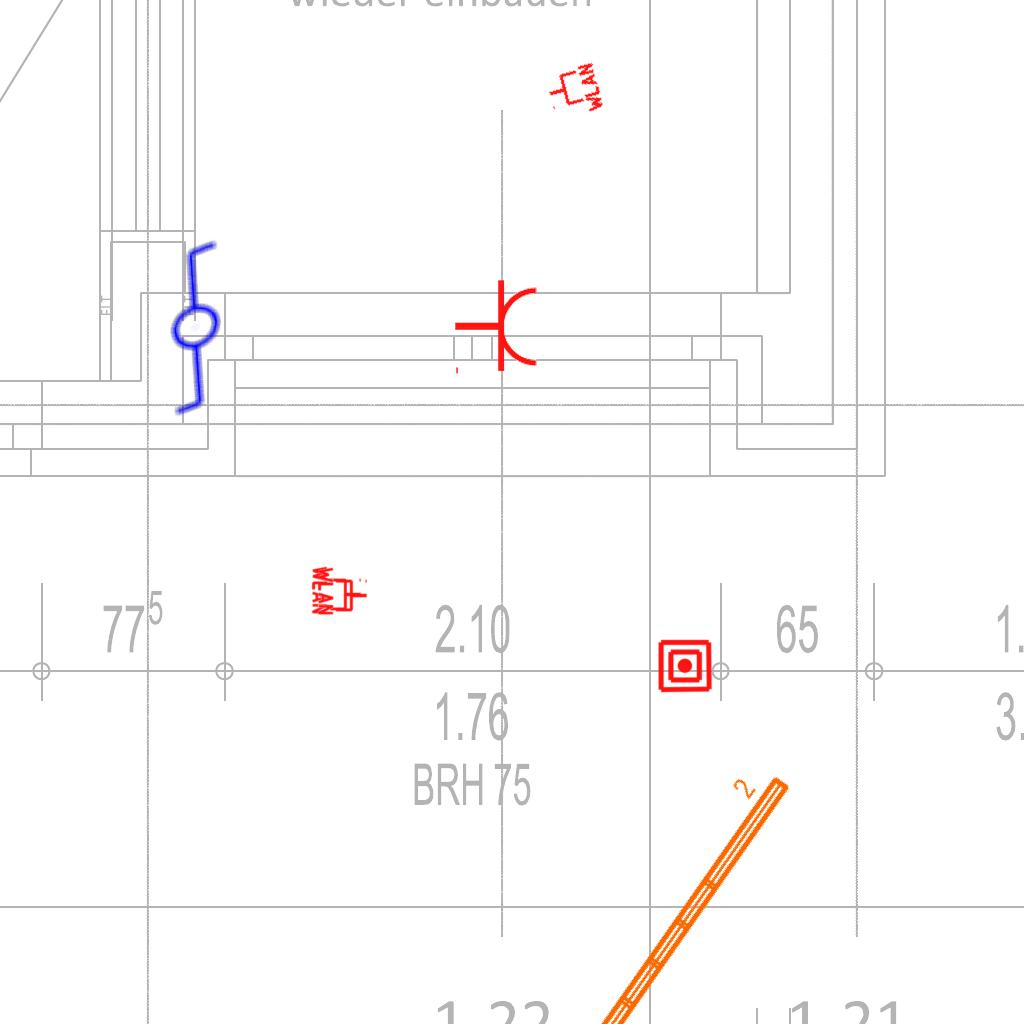Ambulanz_Pendelleuchte_LED: (529, 754, 798, 1024)
NAM-Nichtautomatischer_Melder: (657, 638, 713, 694)
Schukosteckdose_einfach: (453, 278, 540, 378)
WLAN: (542, 60, 606, 124), (311, 564, 363, 616), (317, 565, 369, 617)
Wechselschalter: (97, 219, 310, 429)
